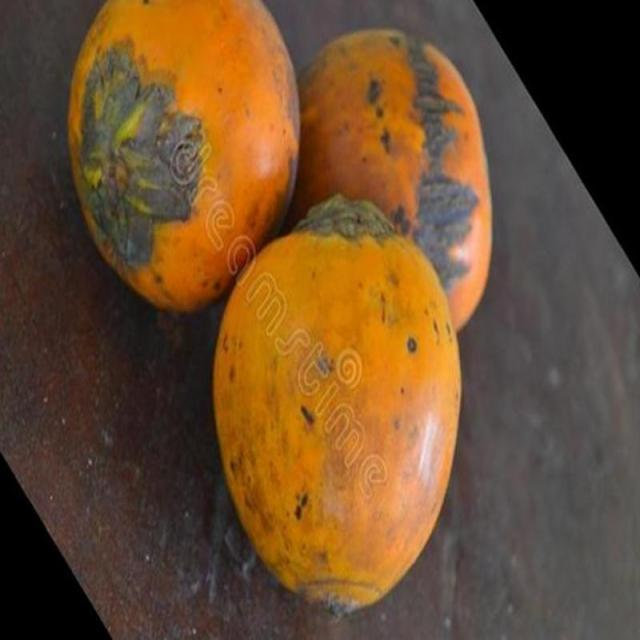good: (211, 195, 462, 610), (66, 0, 302, 315), (281, 28, 491, 332)
